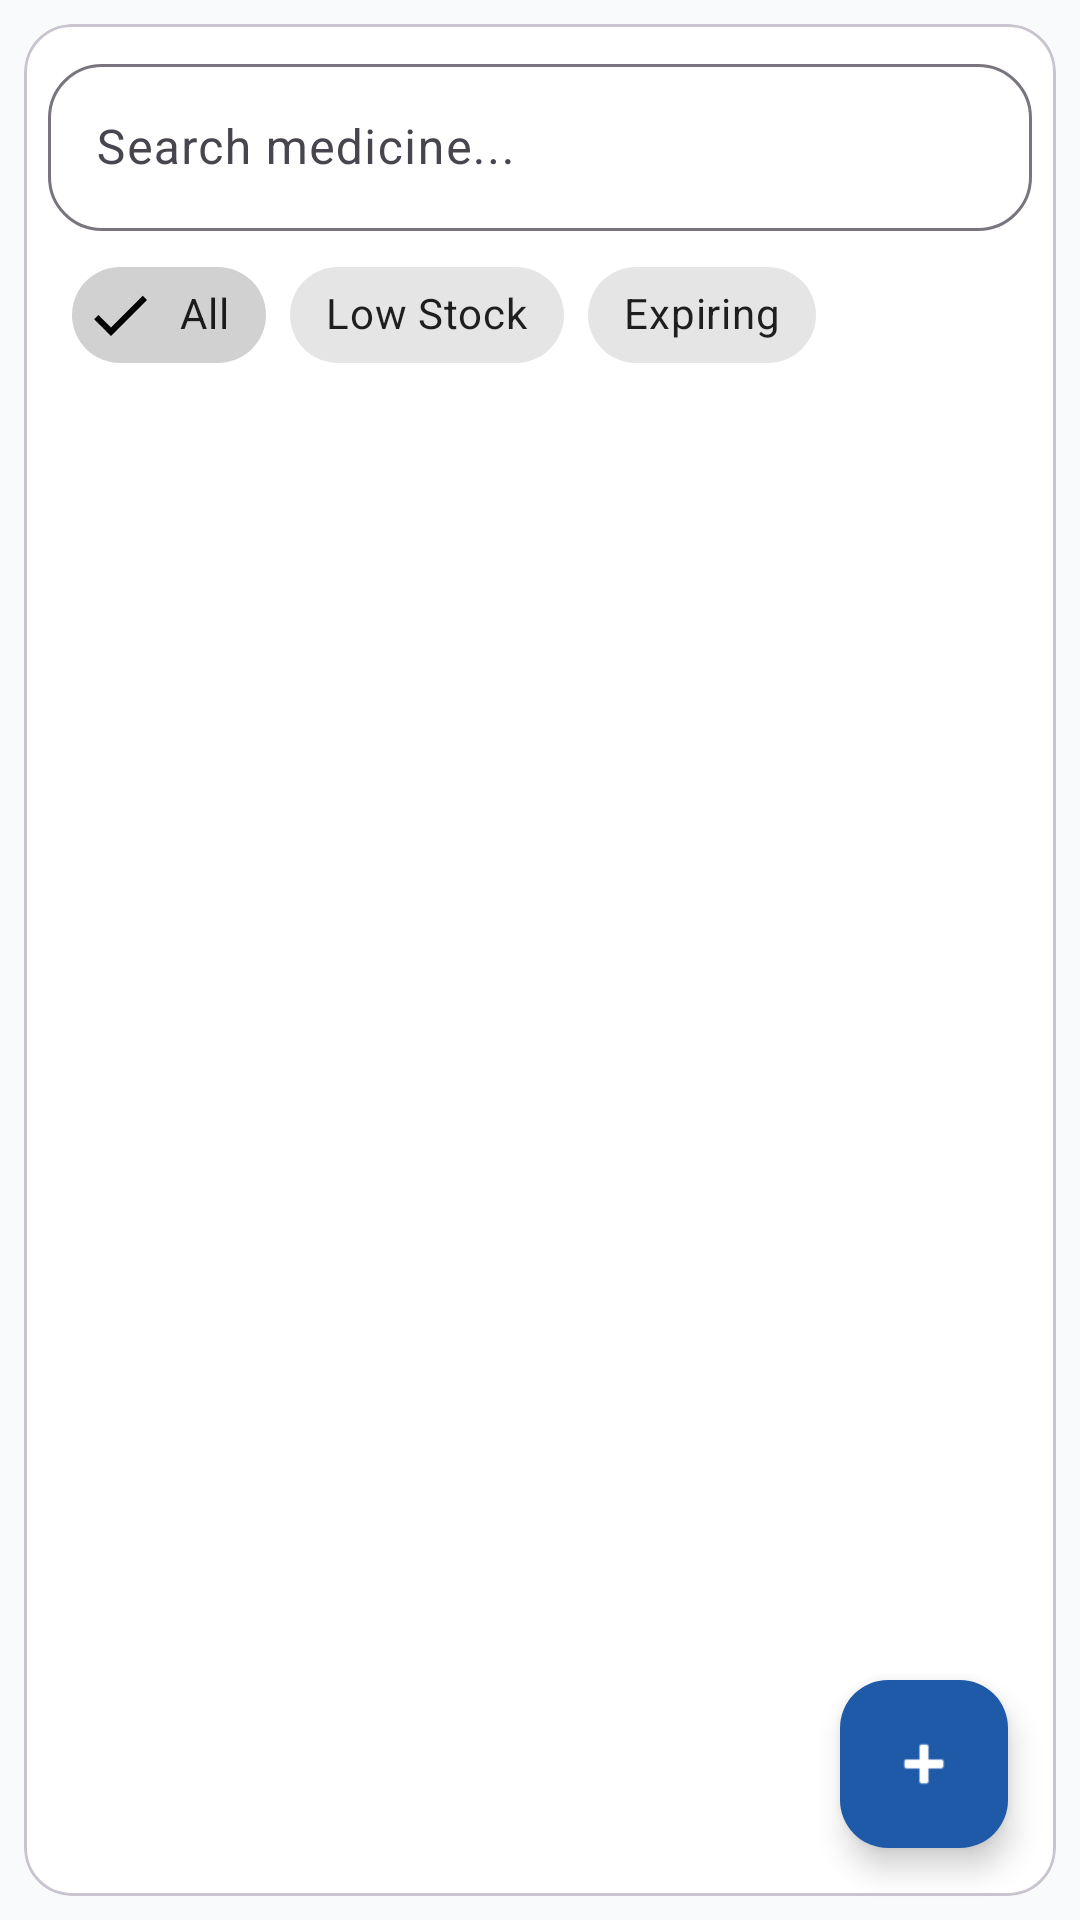

Named icons in this screenshot (1080 × 1920) and their bounding boxes, (x1, y1, x2, y2):
Add Medicine: (840, 1680, 1008, 1848)
